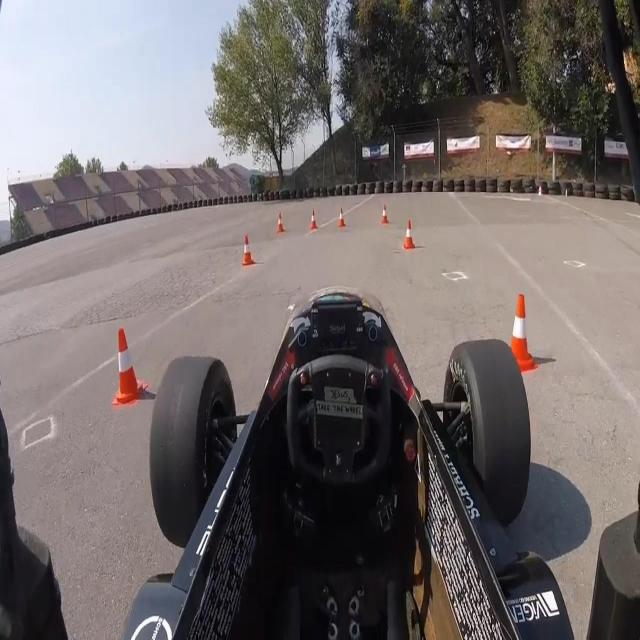orange_cone: (500, 291, 538, 375), (111, 327, 148, 407), (402, 218, 416, 250), (241, 236, 255, 266), (275, 210, 285, 234), (309, 207, 317, 232), (380, 203, 389, 225), (338, 205, 345, 228)
